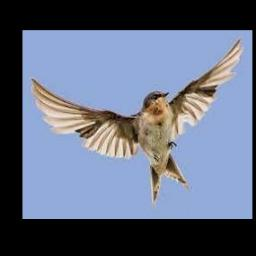Swallow: (30, 36, 243, 209)
